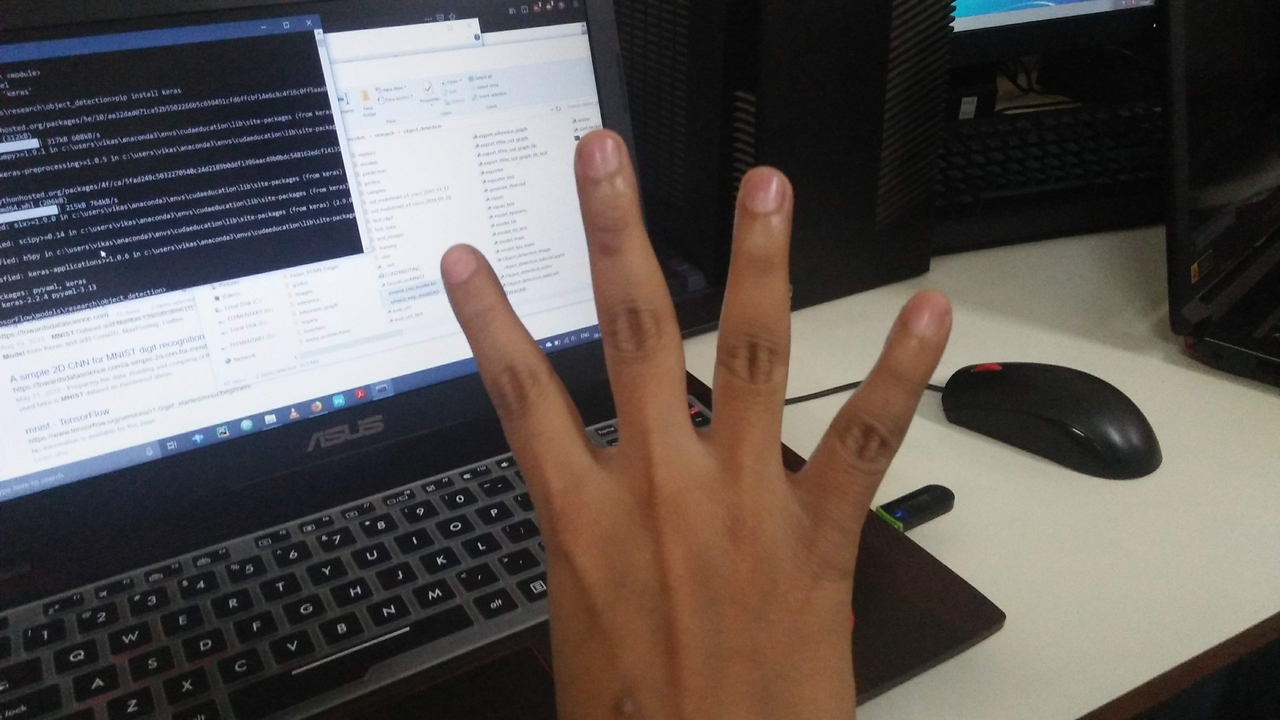fingertip: (892, 286, 964, 350), (568, 124, 636, 190), (732, 160, 800, 224), (432, 240, 494, 296)
